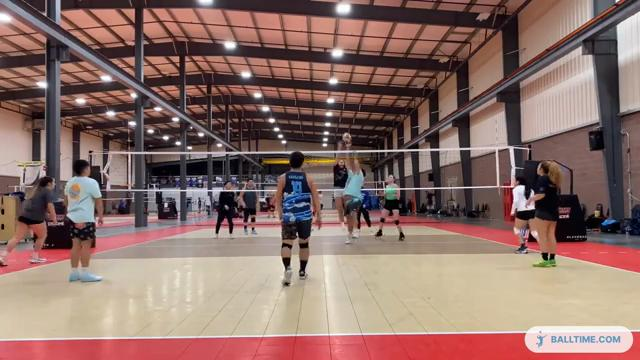Player: (275, 151, 321, 285), (0, 176, 55, 265), (64, 160, 102, 281), (375, 174, 404, 240), (511, 176, 534, 253), (215, 181, 236, 238), (239, 179, 258, 234), (333, 158, 347, 225), (354, 191, 371, 237)
Set: (339, 142, 367, 245)
ball: (341, 132, 352, 142)
